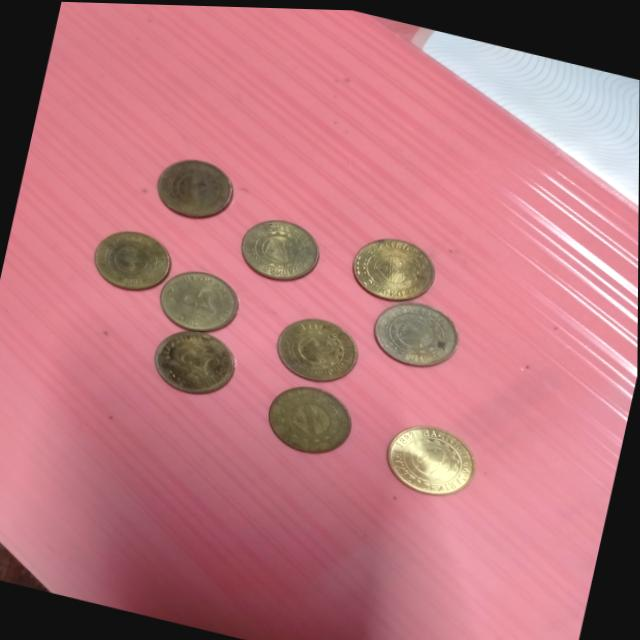25Cent_Old_Back: (349, 226, 443, 313), (381, 415, 476, 498), (276, 309, 363, 386), (242, 215, 326, 284)
